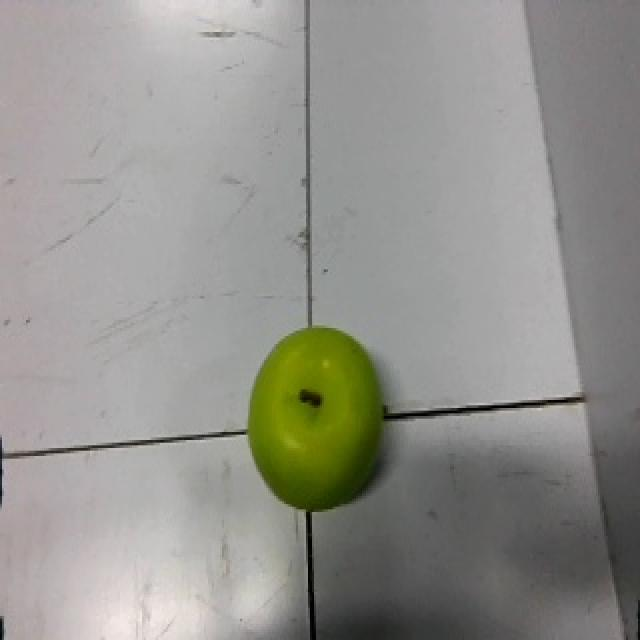apple: (234, 325, 410, 513)
